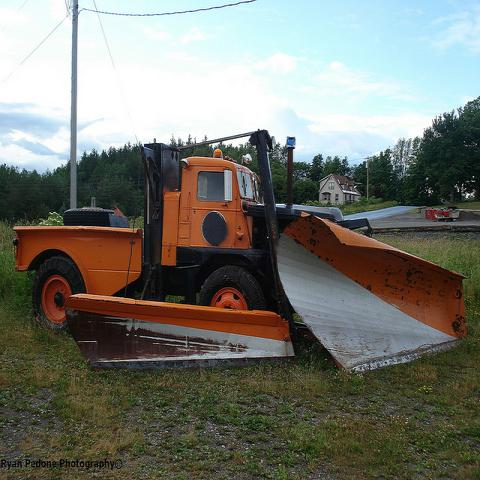truck: (13, 129, 374, 345)
